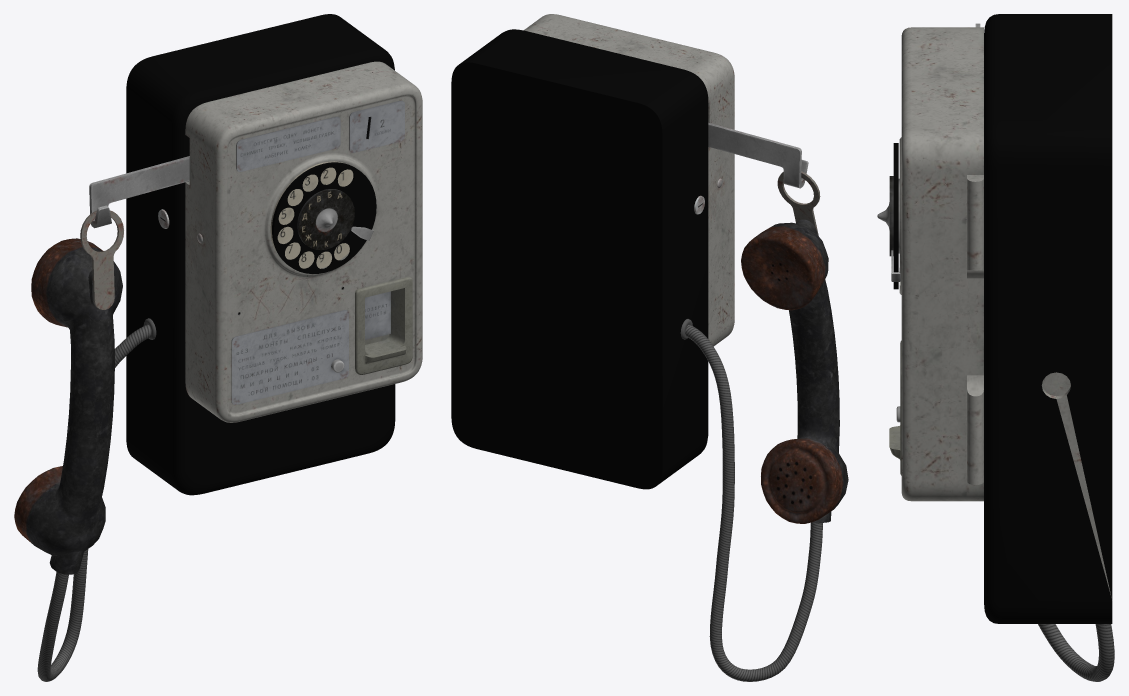
3 renders of one model, left to right at view 1: azimuth 30°, elevation 25°; view 2: azimuth 150°, elevation 25°; view 3: azimuth 270°, elevation 25°, orthographic. The views are drawn at different scales.
Parts seen in each view (by area): view 1: payphone_seg_01, payphone_seg_04, payphone_seg_02, payphone_seg_05, payphone_seg_03; view 2: payphone_seg_01, payphone_seg_04, payphone_seg_05, payphone_seg_03; view 3: payphone_seg_01, payphone_seg_05, payphone_seg_02.
Part boxes in pixels (x1=…): payphone_seg_01: x1=126, y1=14, x2=422, y2=495; payphone_seg_04: x1=14, y1=210, x2=123, y2=574; payphone_seg_02: x1=272, y1=162, x2=376, y2=273; payphone_seg_05: x1=37, y1=324, x2=151, y2=681; payphone_seg_03: x1=89, y1=156, x2=189, y2=228; payphone_seg_01: x1=451, y1=14, x2=734, y2=489; payphone_seg_04: x1=741, y1=171, x2=848, y2=523; payphone_seg_05: x1=685, y1=324, x2=822, y2=681; payphone_seg_03: x1=708, y1=122, x2=808, y2=188; payphone_seg_01: x1=889, y1=14, x2=1112, y2=623; payphone_seg_05: x1=1038, y1=624, x2=1114, y2=681; payphone_seg_02: x1=877, y1=143, x2=899, y2=289.
Bounding box in the file's own units: 1.32 × 2 × 0.5933.
Materials: 2 (2 with a texture image).
